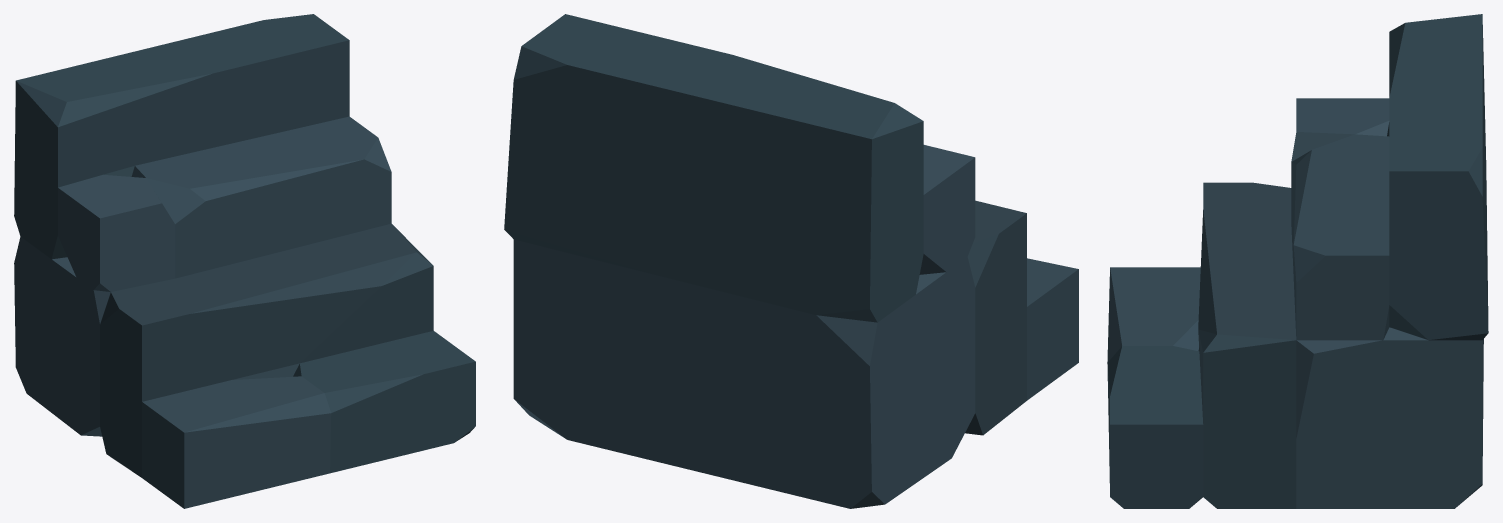
Rendered from stair_straight_narrow.fbx.
The picture shows the model from 3 angles, left to right: view 1: azimuth 30°, elevation 25°; view 2: azimuth 150°, elevation 25°; view 3: azimuth 270°, elevation 25°; orthographic projection. The views are drawn at different scales.
Visible parts, largest first — view 1: stair_straight_narrow; view 2: stair_straight_narrow; view 3: stair_straight_narrow.
Boxes of the visible parts, <box> form: stair_straight_narrow: <box>14,14,475,508</box>; stair_straight_narrow: <box>504,14,1078,508</box>; stair_straight_narrow: <box>1107,14,1488,508</box>.
Size of the model in its own units: 102 by 101 by 102.
